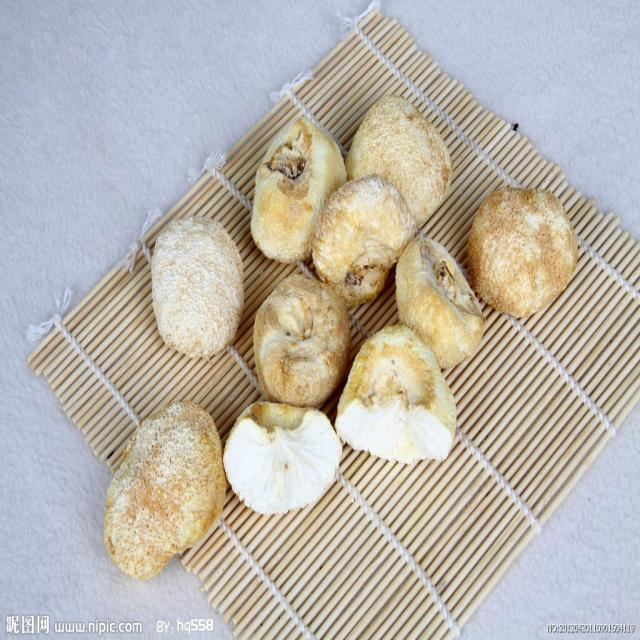Hericium erinaceus: (103, 403, 225, 575), (335, 328, 458, 462), (252, 109, 345, 263), (225, 394, 340, 516), (471, 186, 574, 317), (313, 174, 417, 296), (348, 99, 452, 220), (154, 216, 242, 358), (254, 271, 348, 402), (396, 233, 483, 366)
